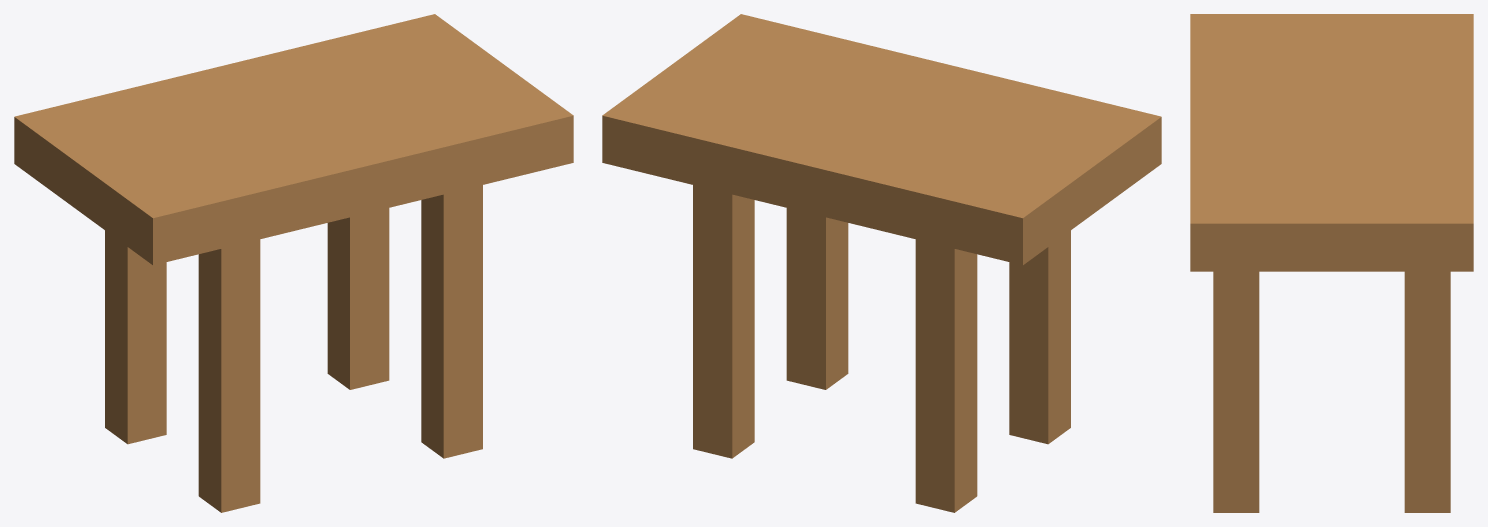
File: 3d-stool-wide.glb
3 renders of one model, left to right at view 1: azimuth 30°, elevation 25°; view 2: azimuth 150°, elevation 25°; view 3: azimuth 270°, elevation 25°, orthographic. The views are drawn at different scales.
Size of the model in its own units: 1.4 by 1.02 by 0.8.
